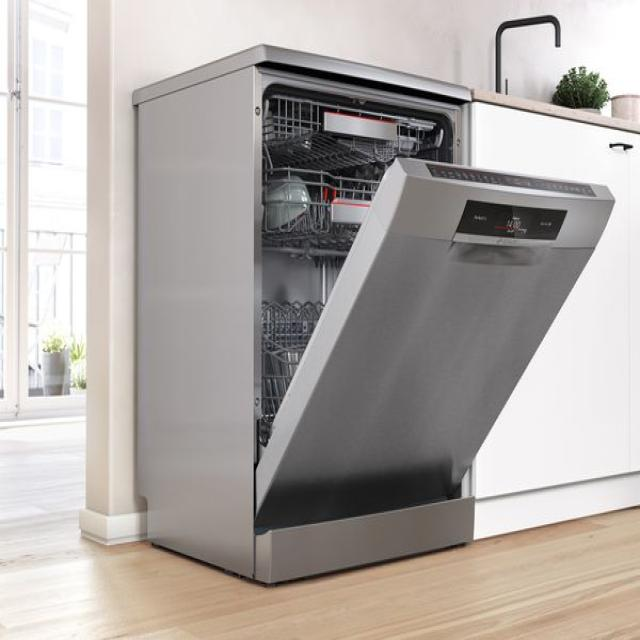dishwasher: (131, 35, 615, 588)
